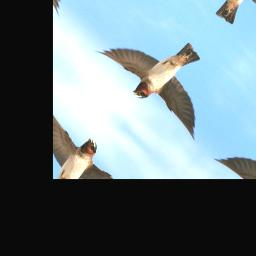Swallow: (89, 0, 241, 149)
